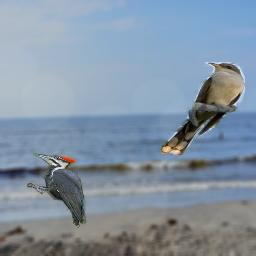Cuckoo: (161, 62, 245, 155)
Woodpecker: (27, 153, 89, 228)
